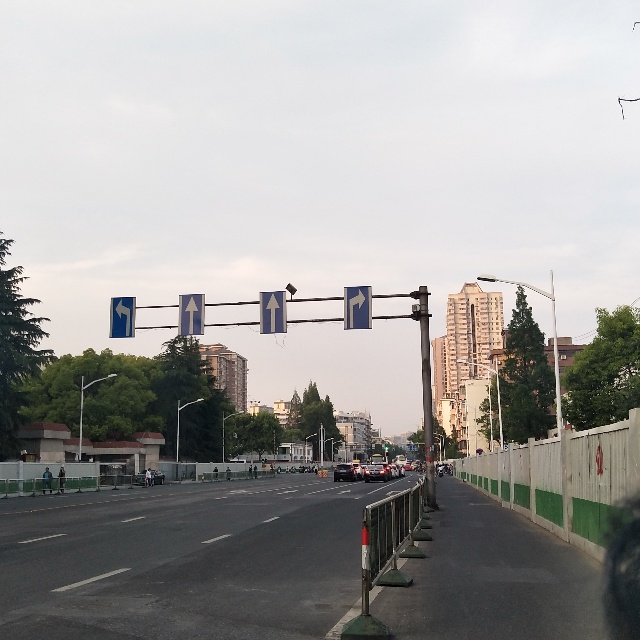left: (112, 302, 134, 335)
right: (344, 290, 372, 327)
straight: (174, 294, 203, 335), (265, 291, 283, 330)
